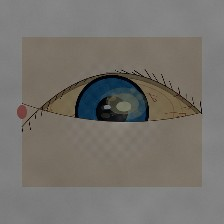corneal_ulcer: (98, 84, 149, 124)
